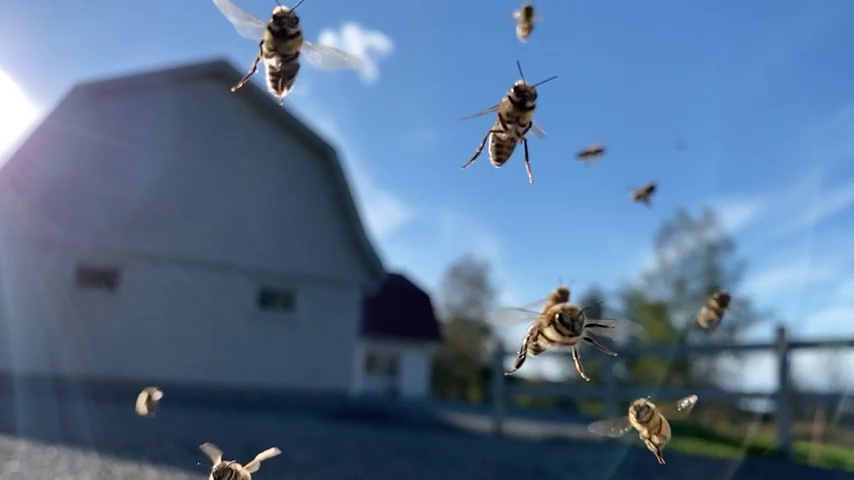insect: (213, 1, 363, 105), (458, 59, 555, 184), (496, 280, 613, 379), (591, 394, 697, 463), (195, 439, 283, 479), (505, 4, 550, 42), (695, 289, 735, 330), (572, 138, 606, 165), (627, 179, 657, 206)
